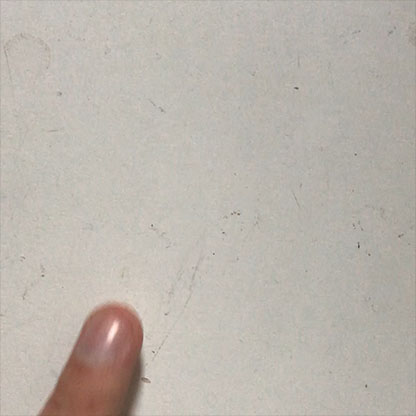fingertip: (65, 297, 154, 390)
